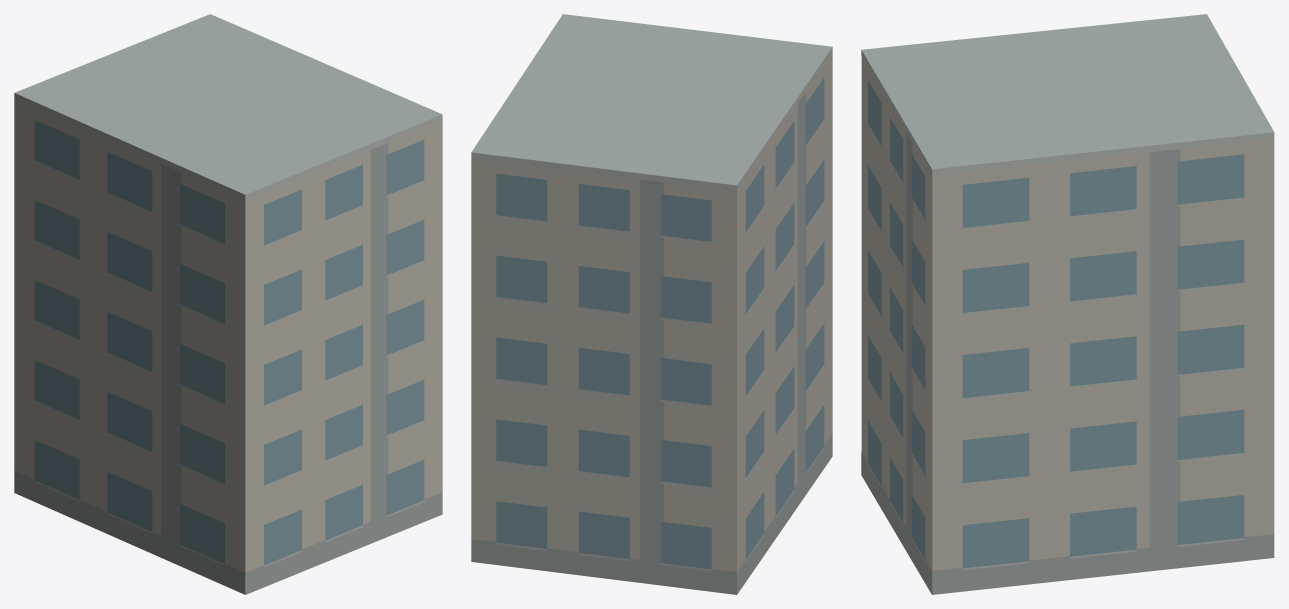
Rendered from survey-upis-32650916.glb.
3 renders of one model, left to right at view 1: azimuth 30°, elevation 25°; view 2: azimuth 150°, elevation 25°; view 3: azimuth 270°, elevation 25°, orthographic. The views are drawn at different scales.
Parts seen in each view (by area): view 1: survey-upis-32650916.tmp; view 2: survey-upis-32650916.tmp; view 3: survey-upis-32650916.tmp.
Boxes of the visible parts, <box> form: survey-upis-32650916.tmp: <box>14,14,442,594</box>; survey-upis-32650916.tmp: <box>471,14,832,594</box>; survey-upis-32650916.tmp: <box>861,14,1274,594</box>.
Bounding box in the file's own units: 12.61 × 16.1 × 14.17.
